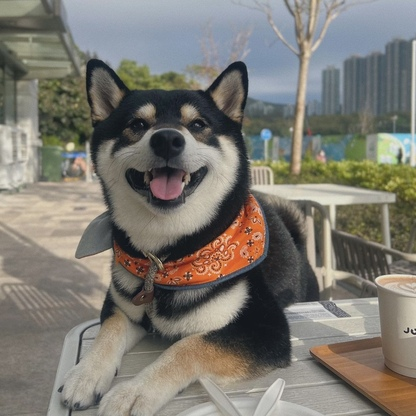shiba: (58, 48, 325, 416)
